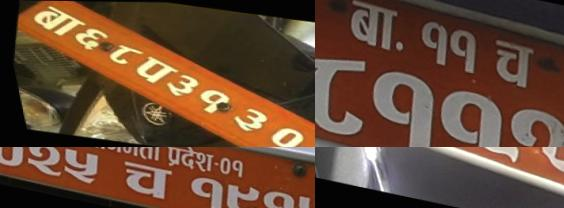0: (340, 0, 400, 50), (260, 124, 302, 147), (0, 147, 28, 171), (213, 154, 234, 177)
1: (490, 102, 564, 147), (181, 170, 227, 208), (190, 88, 232, 116), (253, 185, 297, 208), (226, 156, 247, 181)
2: (17, 147, 67, 182)
3: (354, 64, 442, 147), (423, 84, 511, 147), (440, 25, 484, 74), (412, 18, 452, 65), (223, 105, 269, 134), (158, 71, 200, 97)
5: (54, 147, 103, 189), (288, 191, 315, 208)
6: (70, 26, 109, 48)
8: (103, 42, 142, 65)
9: (483, 34, 538, 89), (463, 147, 537, 167), (216, 179, 263, 208)
ba: (24, 3, 88, 38)
cha: (113, 155, 176, 204)
pa: (315, 46, 376, 141), (516, 147, 564, 194), (127, 53, 177, 84)
